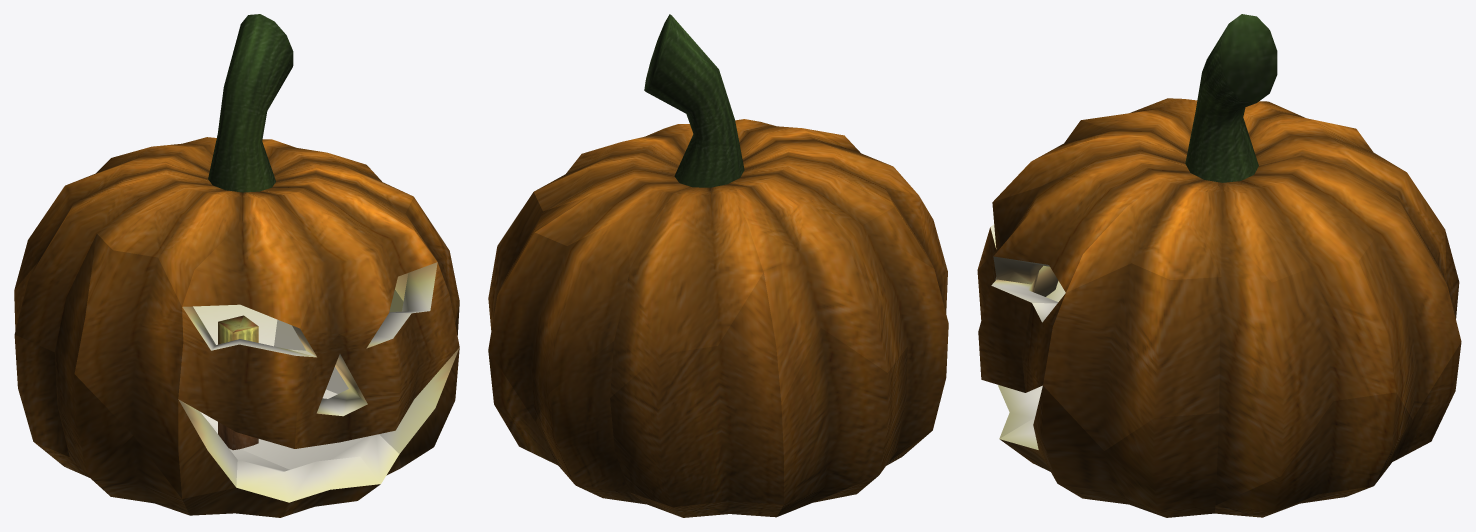
File: Jackfbx.FBX
3 views of the same model, side by side, from view 1: azimuth 30°, elevation 25°; view 2: azimuth 150°, elevation 25°; view 3: azimuth 270°, elevation 25° (orthographic). The views are drawn at different scales.
Visible parts, largest first — view 1: piece_25, piece_18, piece_06, piece_23, piece_22, piece_14, piece_30, piece_27, piece_21, piece_29, piece_28, piece_02 (+11 smaller); view 2: piece_04, piece_06, piece_03, piece_01, piece_02, piece_10, piece_30, piece_29, piece_27, piece_09, piece_25, piece_12 (+4 smaller); view 3: piece_08, piece_16, piece_19, piece_18, piece_01, piece_15, piece_30, piece_13, piece_03, piece_12, piece_09, piece_14 (+10 smaller).
Boxes of the visible parts, x1,y1,x2,y2 form: piece_25: (74,234,183,498); piece_18: (260,181,437,357); piece_06: (14,160,212,351); piece_23: (182,191,323,328); piece_22: (178,306,317,448); piece_14: (288,312,419,448); piece_30: (208,14,293,192); piece_27: (97,182,242,306); piece_21: (182,449,380,517); piece_29: (54,234,132,476); piece_28: (389,262,459,398); piece_02: (14,261,69,456); piece_04: (610,272,784,507); piece_06: (719,173,907,404); piece_03: (610,186,763,397); piece_01: (488,218,630,421); piece_02: (777,328,907,516); piece_10: (488,341,646,504); piece_30: (644,14,744,187); piece_29: (863,225,948,460); piece_27: (740,140,918,224); piece_09: (535,177,691,267); piece_25: (863,187,947,313); piece_12: (534,152,677,211); piece_08: (1215,212,1395,505); piece_16: (1043,263,1221,450); piece_19: (1033,386,1219,517); piece_18: (992,151,1196,292); piece_01: (1350,184,1461,419); piece_15: (1066,176,1222,292); piece_30: (1185,14,1277,182); piece_13: (1216,392,1396,517); piece_03: (1253,120,1446,284); piece_12: (1221,178,1316,282); piece_09: (1248,155,1396,260); piece_14: (977,248,1058,392).
Size of the model in its own units: 59.99 by 64.83 by 60.26.
